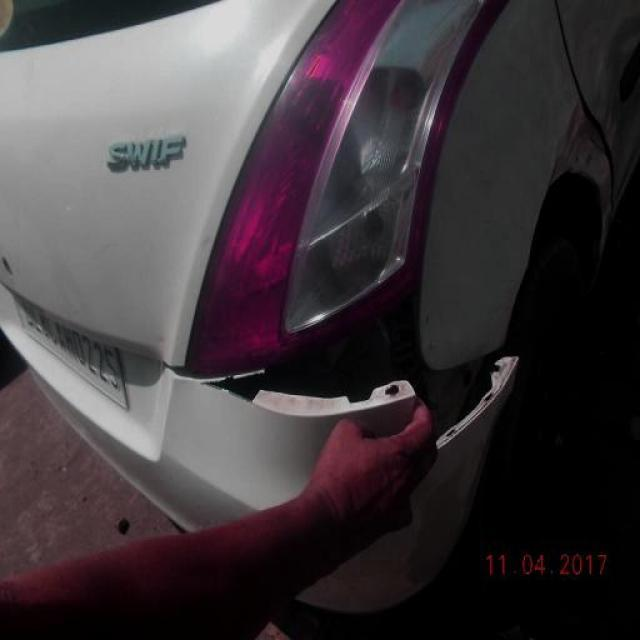Car-Damage: (199, 290, 518, 444)
